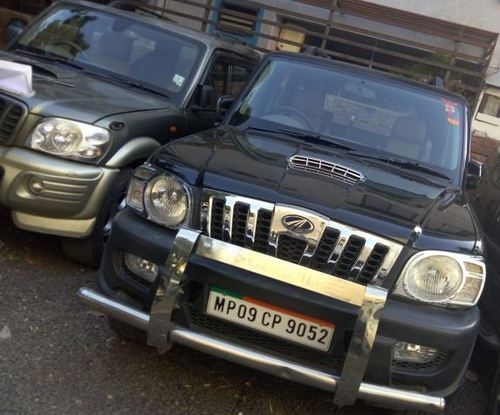number_plate: (204, 268, 357, 378)
